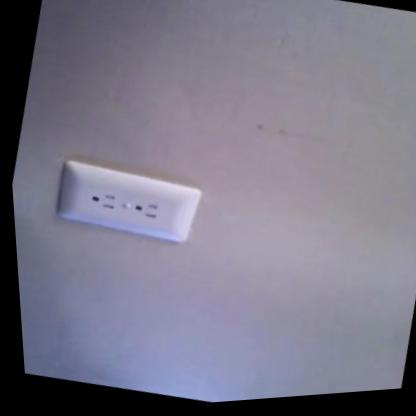OUTLET: (51, 151, 205, 250)
